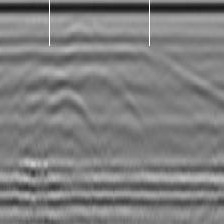Utility: (33, 73, 95, 133)
